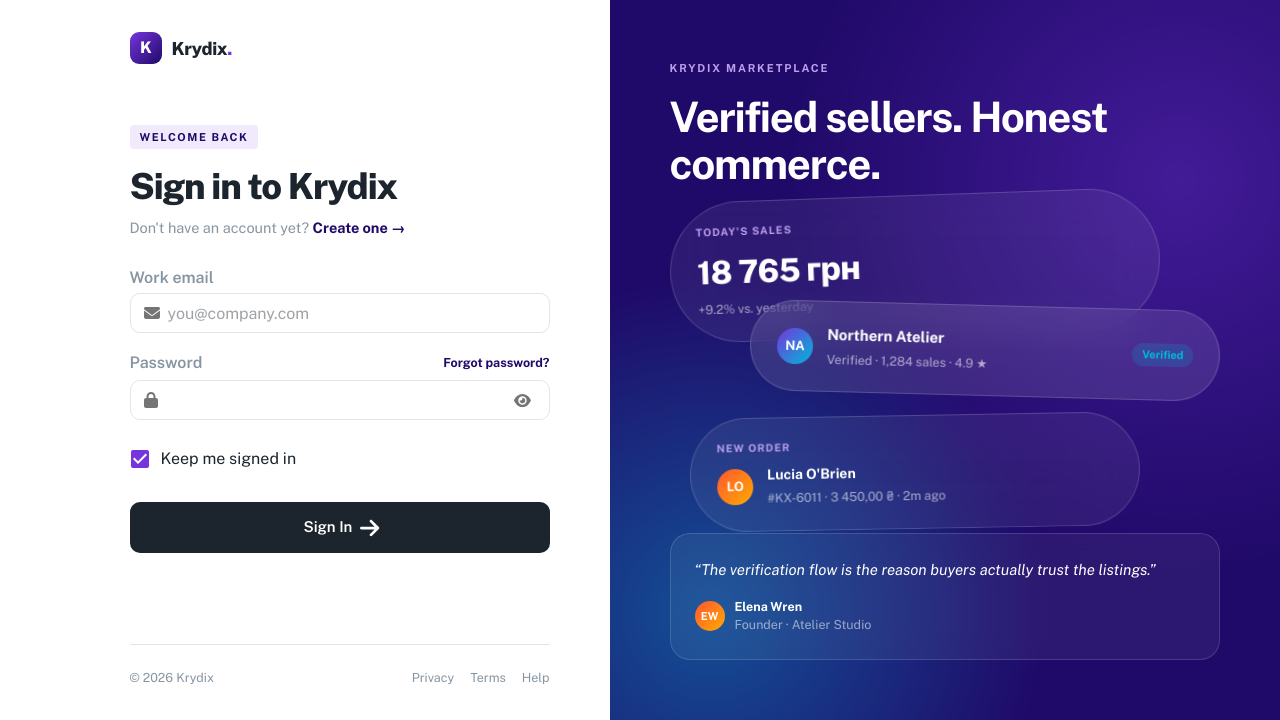
Login page › shows error message on invalid credentials
Type "bad@bad.co" into the field labelled "Work email".
click(359, 313); type("bad@bad.co")  # box [168, 293, 550, 333]
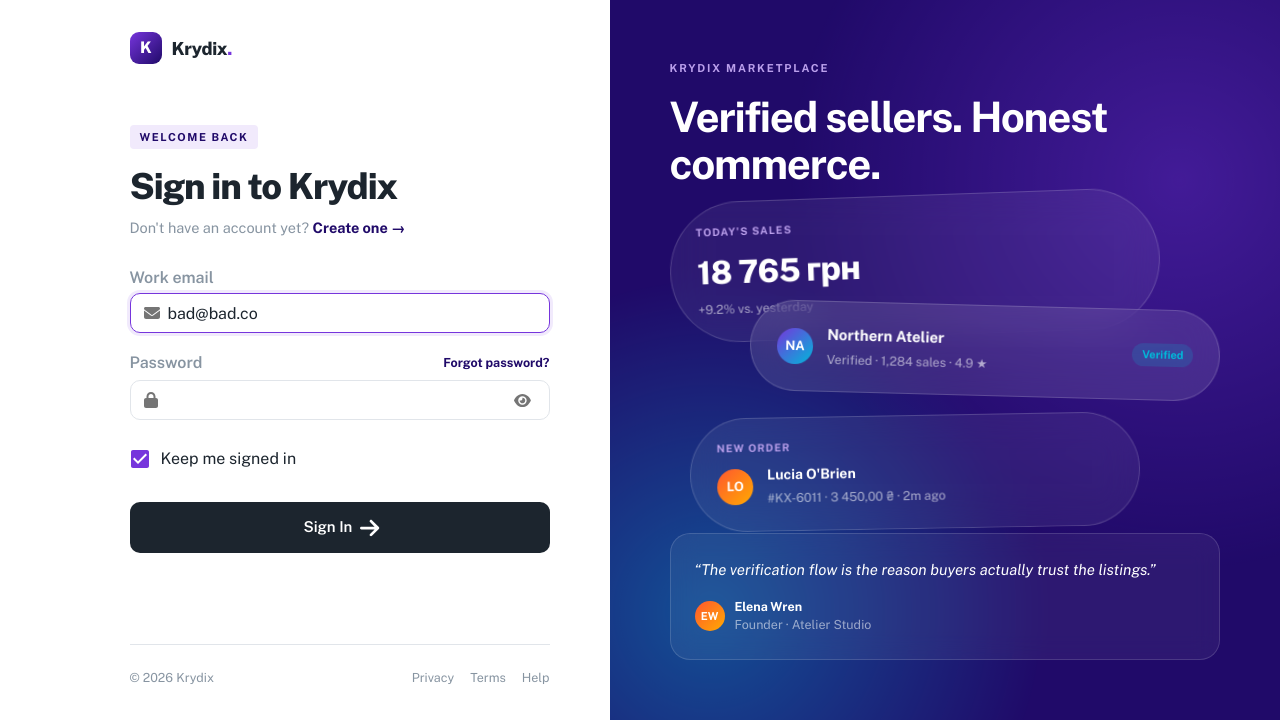
Type "wrongpass" into the password field labelled "Password".
click(334, 400); type("wrongpass")  # box [166, 380, 501, 420]
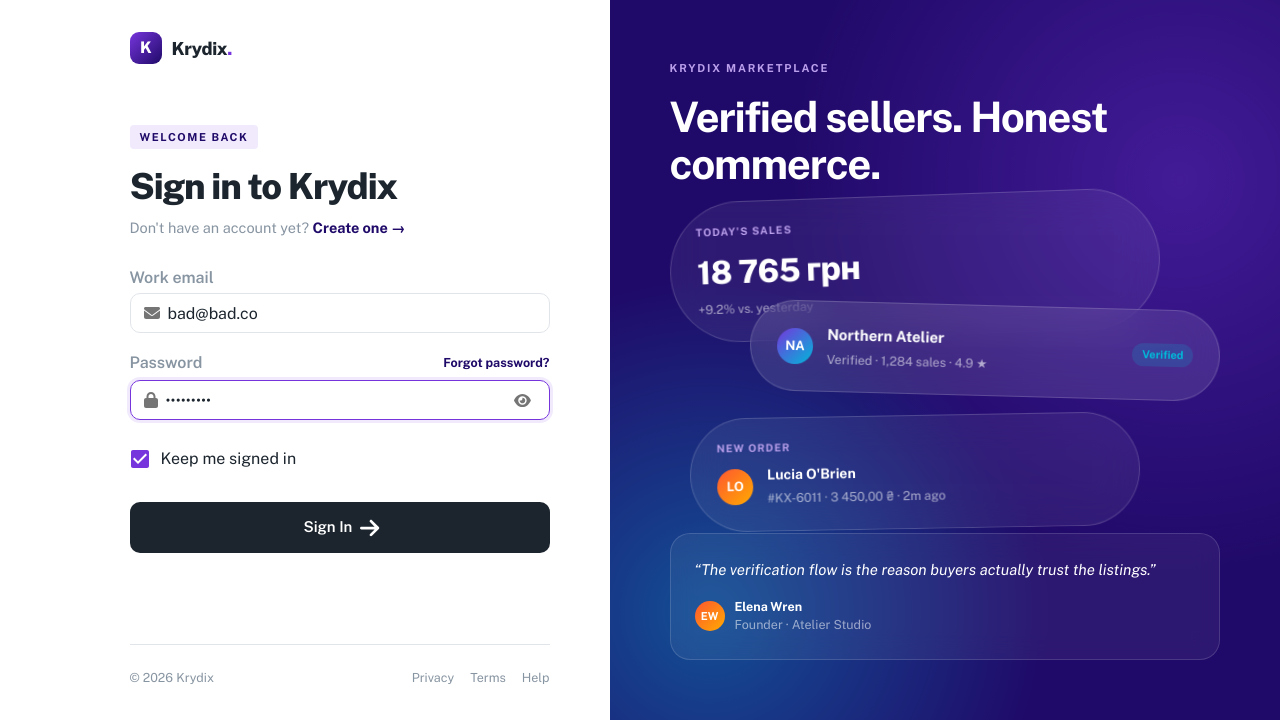
Click the button "Sign In".
click(340, 527)  # box [130, 502, 550, 552]
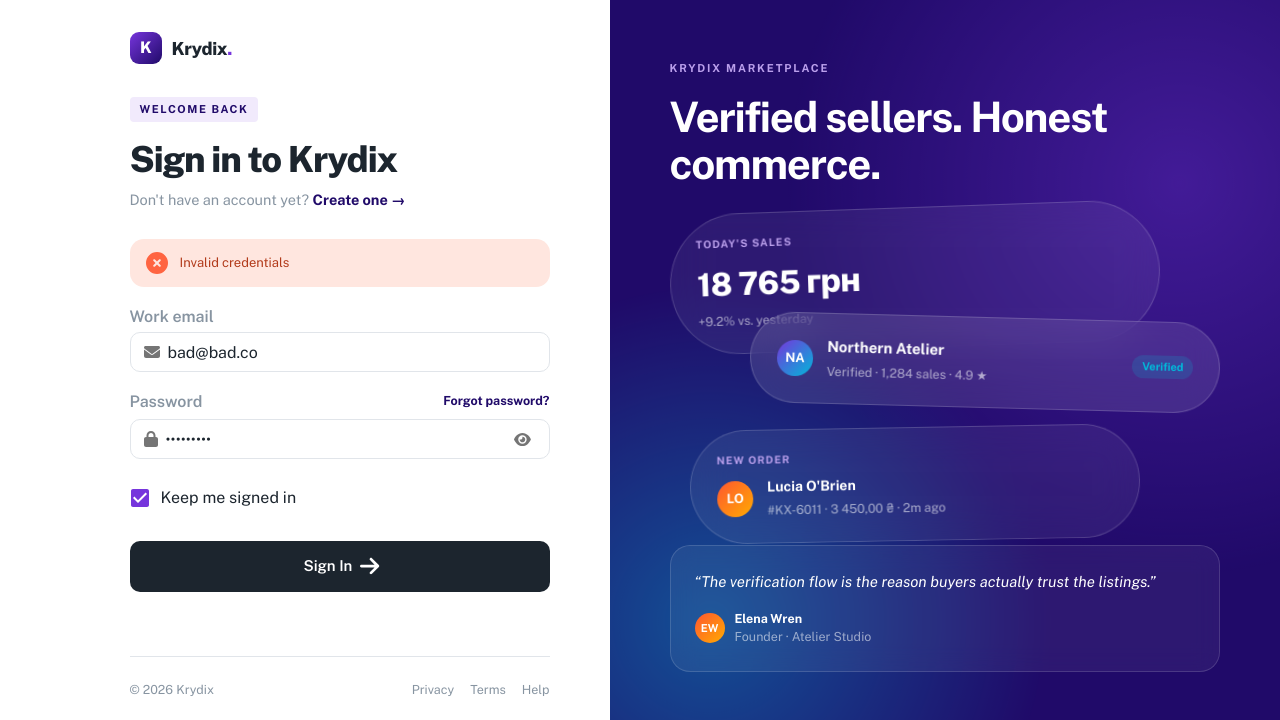
Check: the text "Invalid credentials" is shown, box [180, 255, 289, 270]
